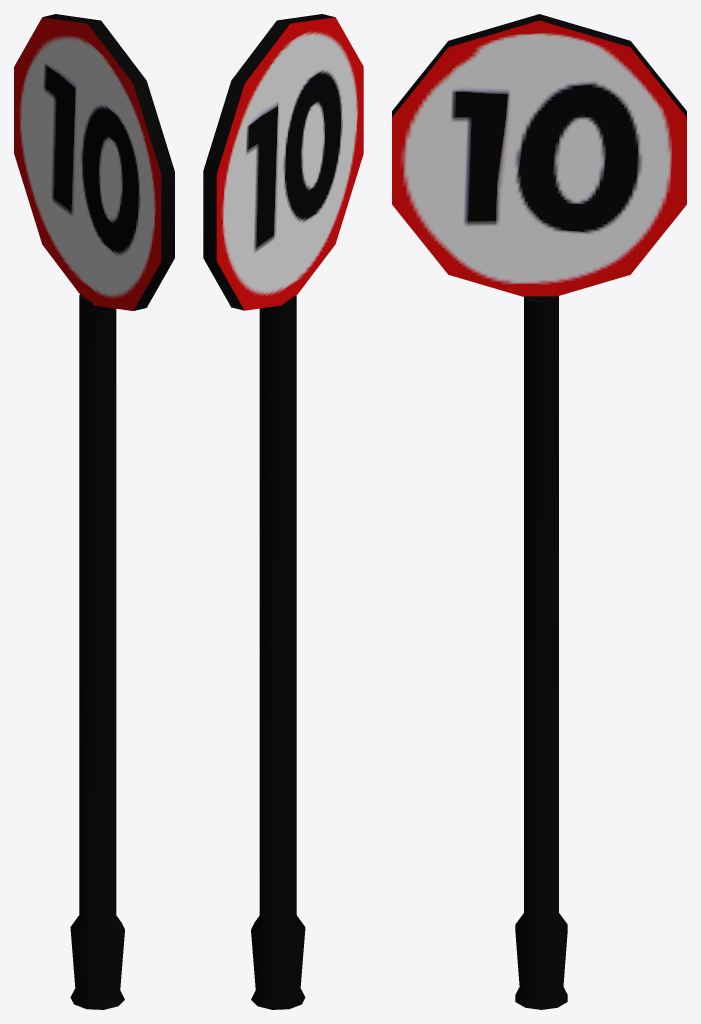
3 renders of one model, left to right at view 1: azimuth 30°, elevation 25°; view 2: azimuth 150°, elevation 25°; view 3: azimuth 270°, elevation 25°, orthographic.
Visible parts, largest first — view 1: Cylinder002; view 2: Cylinder002; view 3: Cylinder002.
Boxes of the visible parts, <box> form: Cylinder002: <box>14,14,174,1009</box>; Cylinder002: <box>203,14,363,1009</box>; Cylinder002: <box>392,14,686,1009</box>.
Size of the model in its own units: 1.42 by 27.86 by 7.61.
